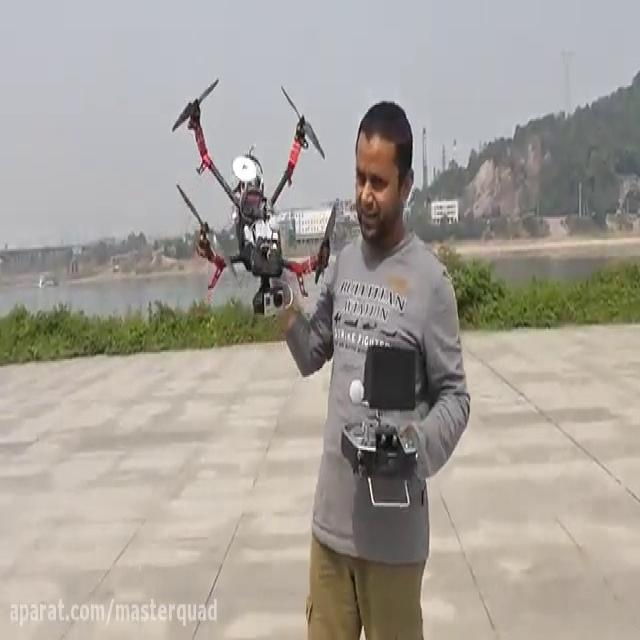drone: (168, 71, 338, 318)
